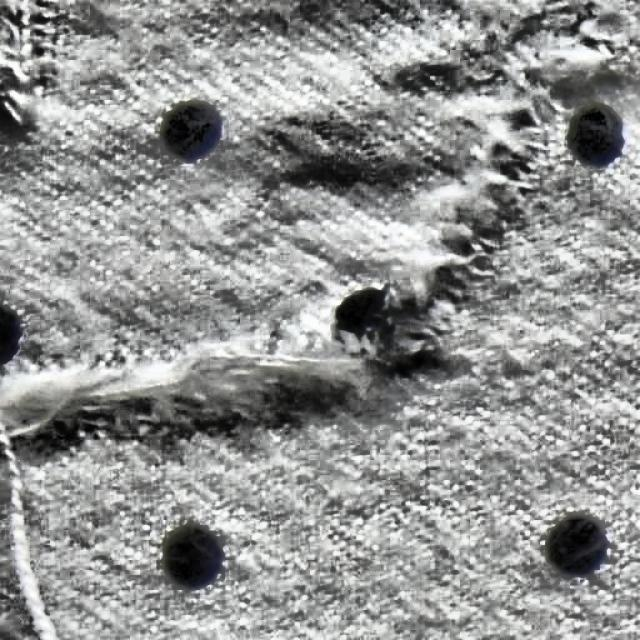Stitch: (382, 2, 638, 328), (0, 335, 425, 454), (0, 434, 65, 638), (0, 0, 71, 144)
